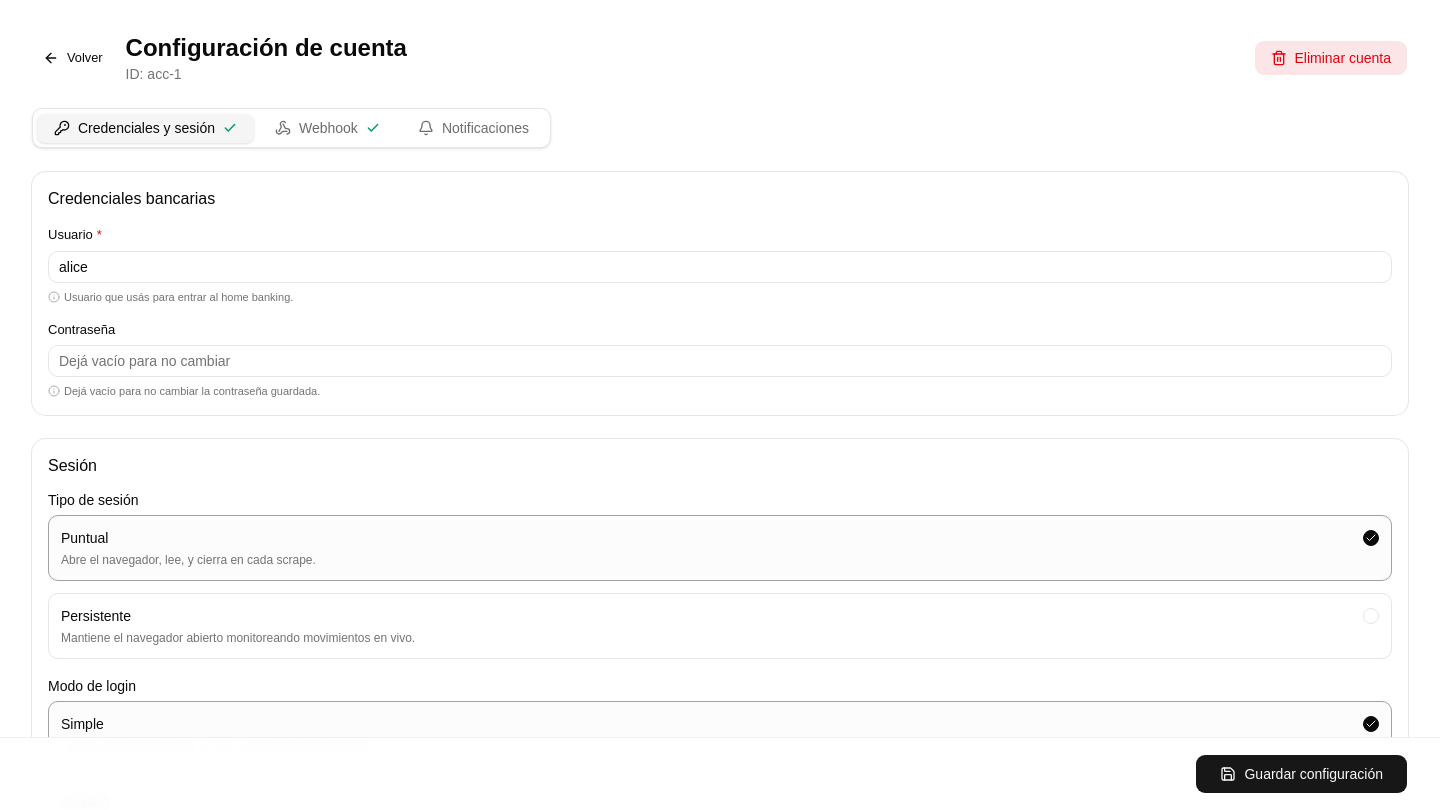
Test: AccountConfig page › shows a server-error banner when the PUT fails with a non-mappable error
The width and height of the screenshot is (1440, 810).
Check: the heading "Configuración de cuenta" is shown, box [126,32,407,64]
Click the button "Guardar configuración". click: [1302, 774]
box: [1196,754,1408,794]
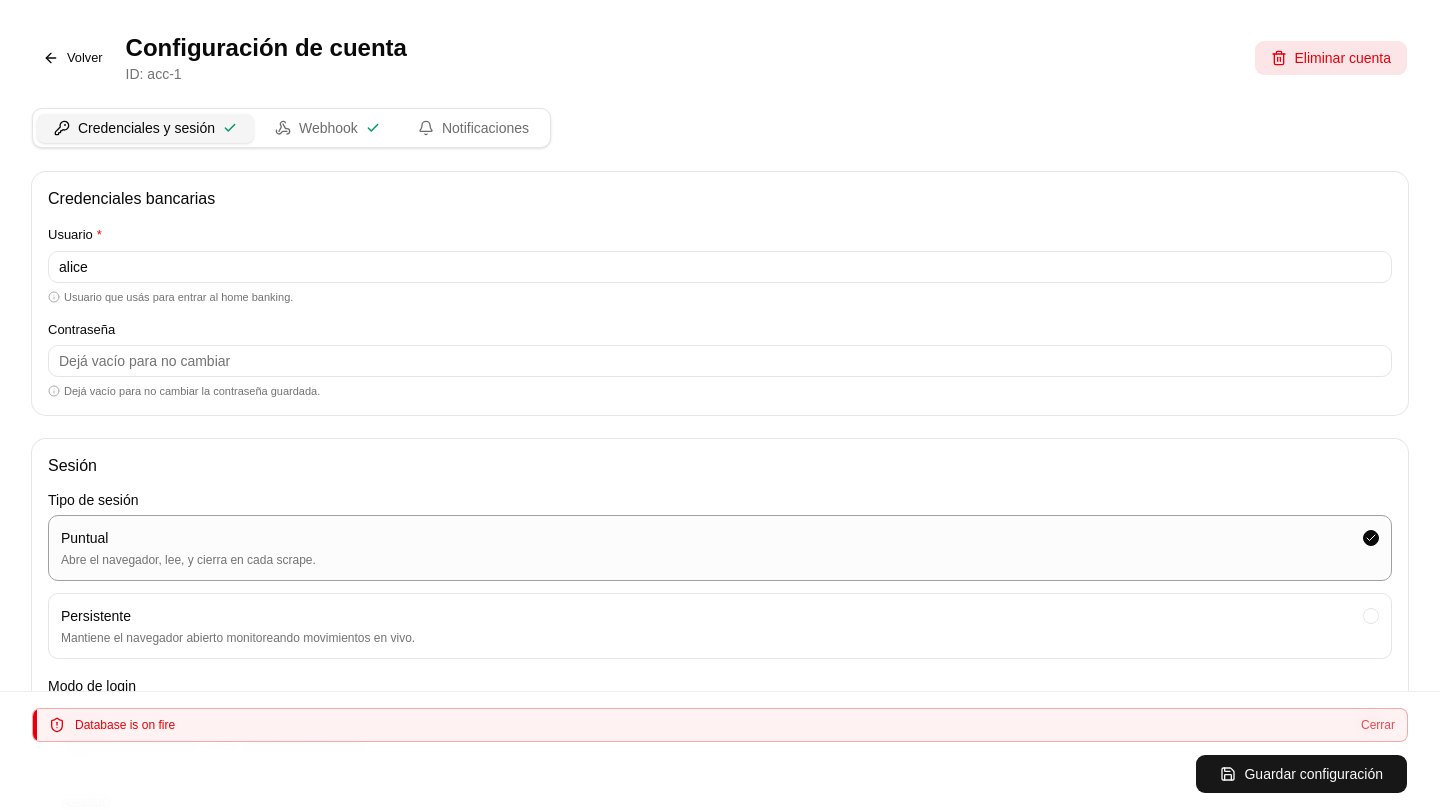
Check: the text "Database is on fire" is shown, box [75,718,175,732]
